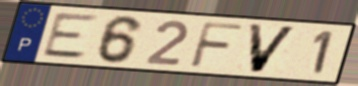1: (311, 29, 335, 77)
2: (142, 19, 191, 67)
6: (96, 14, 142, 65)
E: (39, 12, 102, 61)
F: (187, 20, 247, 70)
V: (246, 22, 301, 74)
